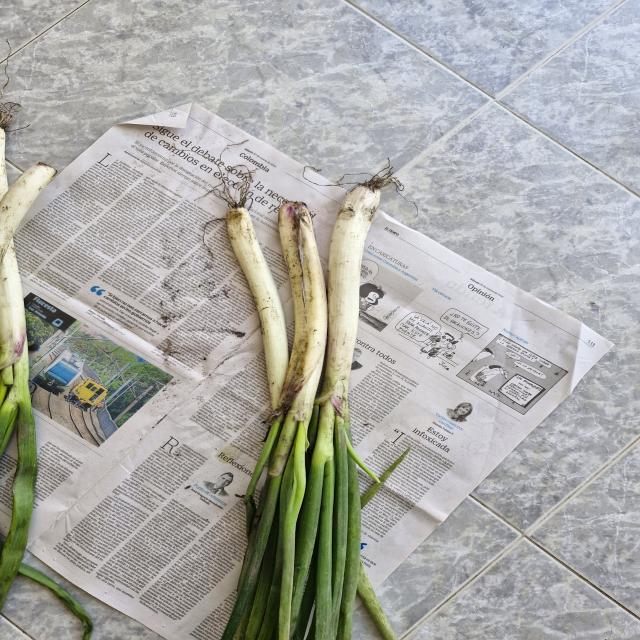green_onion: (208, 155, 390, 640)
